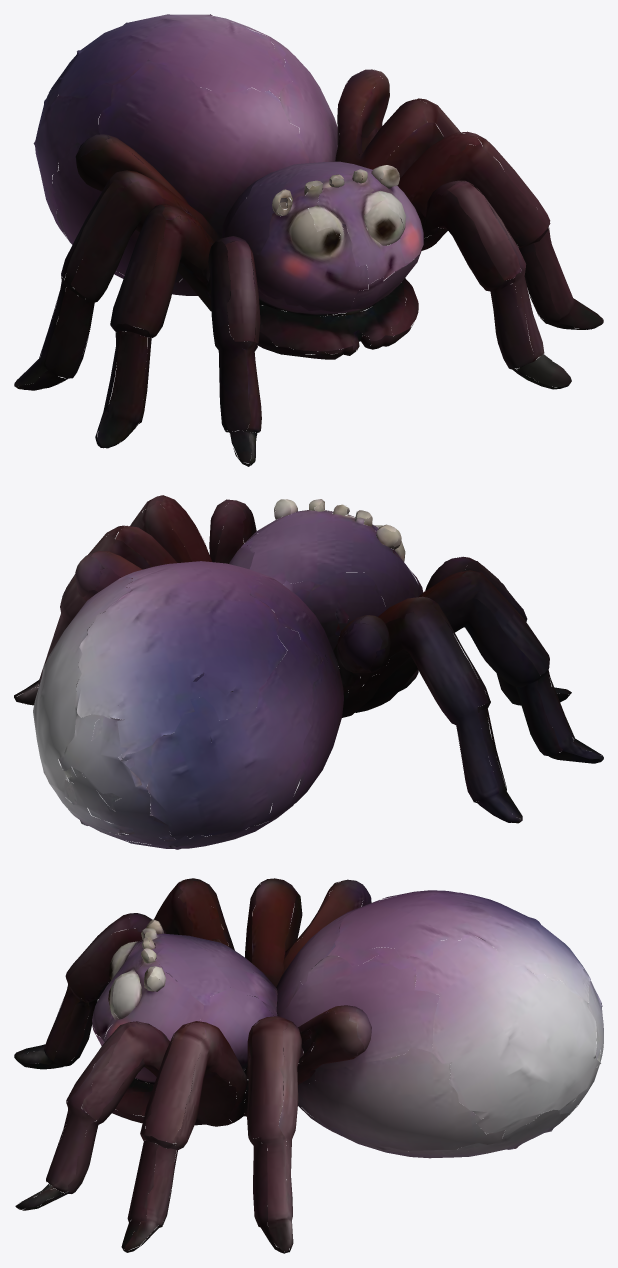
Rendered from spider.glb.
3 views of the same model, one above another, from view 1: azimuth 30°, elevation 25°; view 2: azimuth 150°, elevation 25°; view 3: azimuth 270°, elevation 25° (orthographic). The views are drawn at different scales.
Visible parts, largest first — view 1: geometry_0; view 2: geometry_0; view 3: geometry_0.
Part boxes in pixels (x1,y1,x2,y2): geometry_0: (14,14,603,466); geometry_0: (14,495,603,849); geometry_0: (14,878,603,1253).
Size of the model in its own units: 0.9531 by 0.4445 by 0.9976.
Materials: 1 (1 with a texture image).
